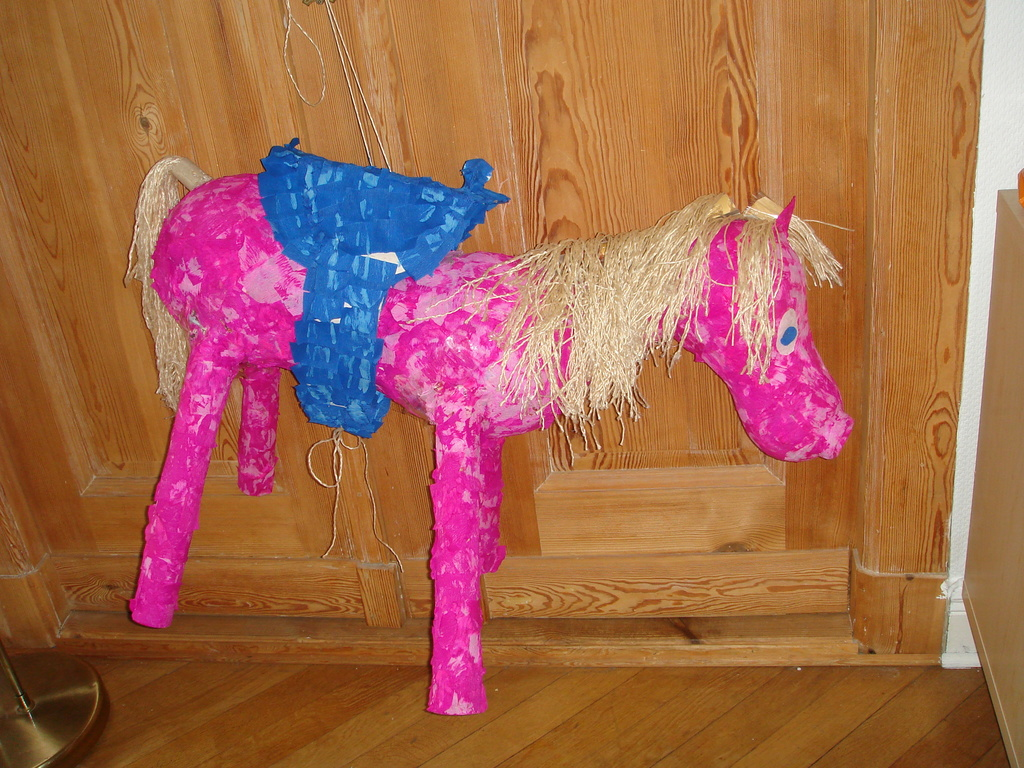Animal: (116, 144, 859, 713)
